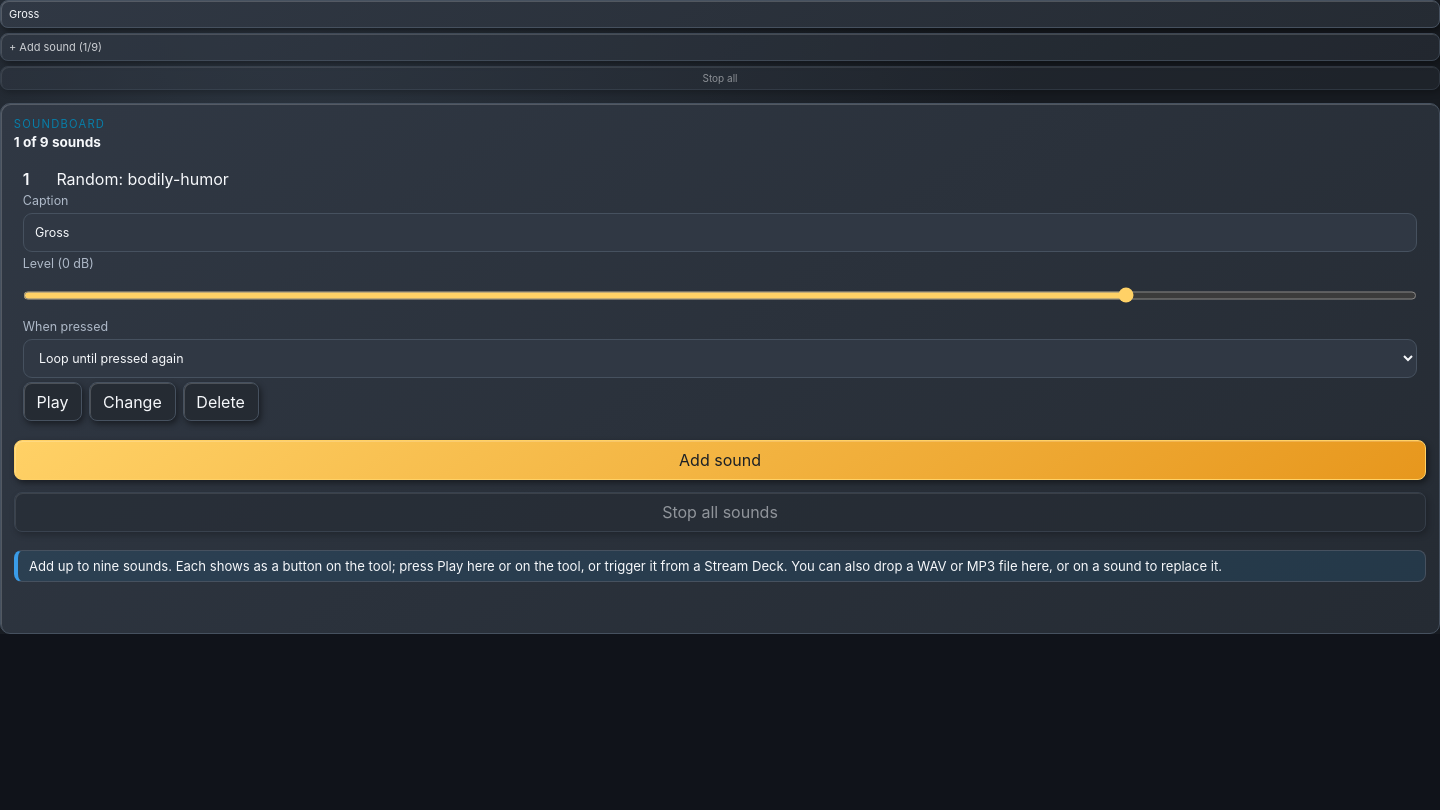
choosing and replacing sounds › Change with a library sound replaces the slot, keeps its caption and clears its random set
Click the button with aria-label "Change sound 1". click: (132, 402)
box: [89,382,176,421]
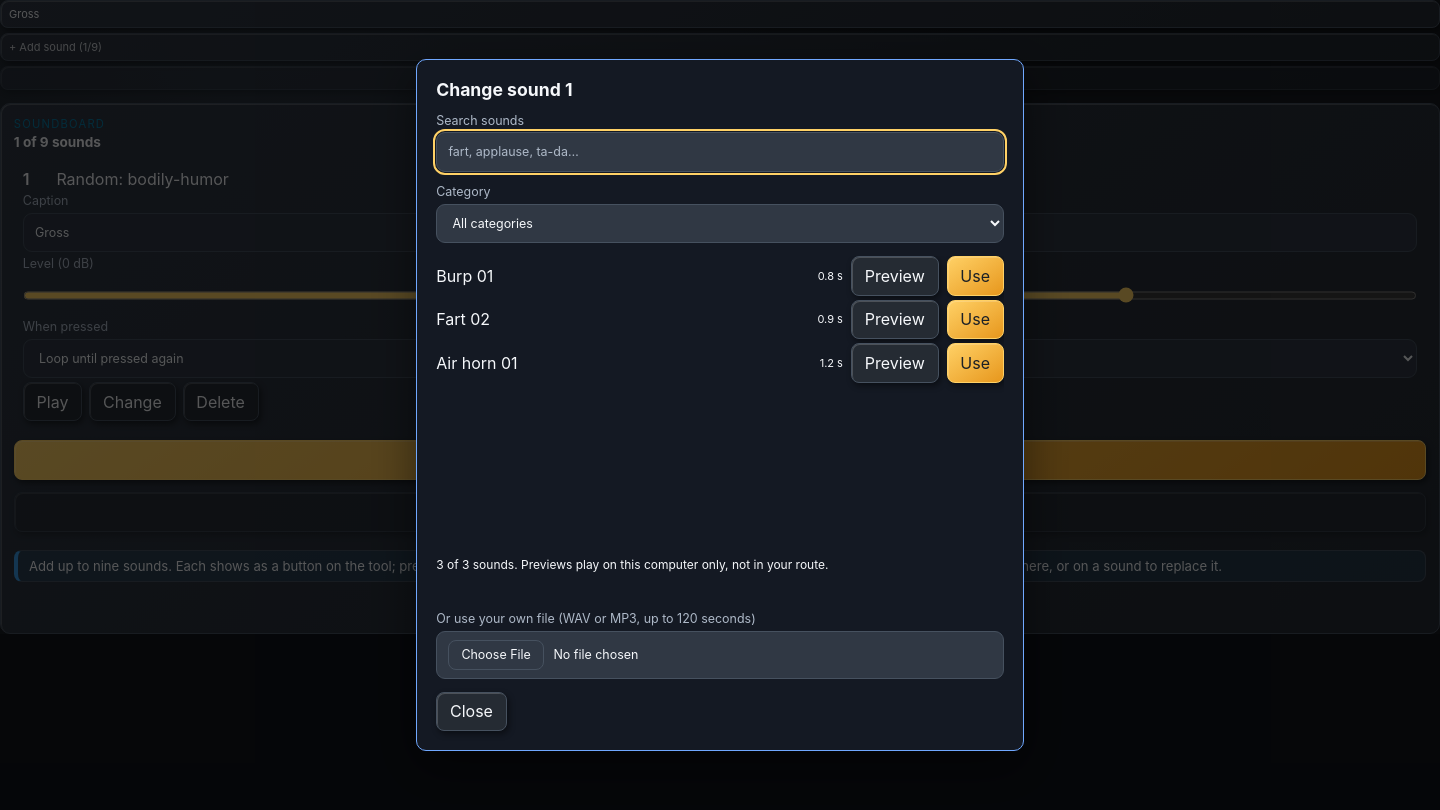
Click the button with aria-label "Use Air horn 01". click: (975, 363)
box: [946,343,1004,383]
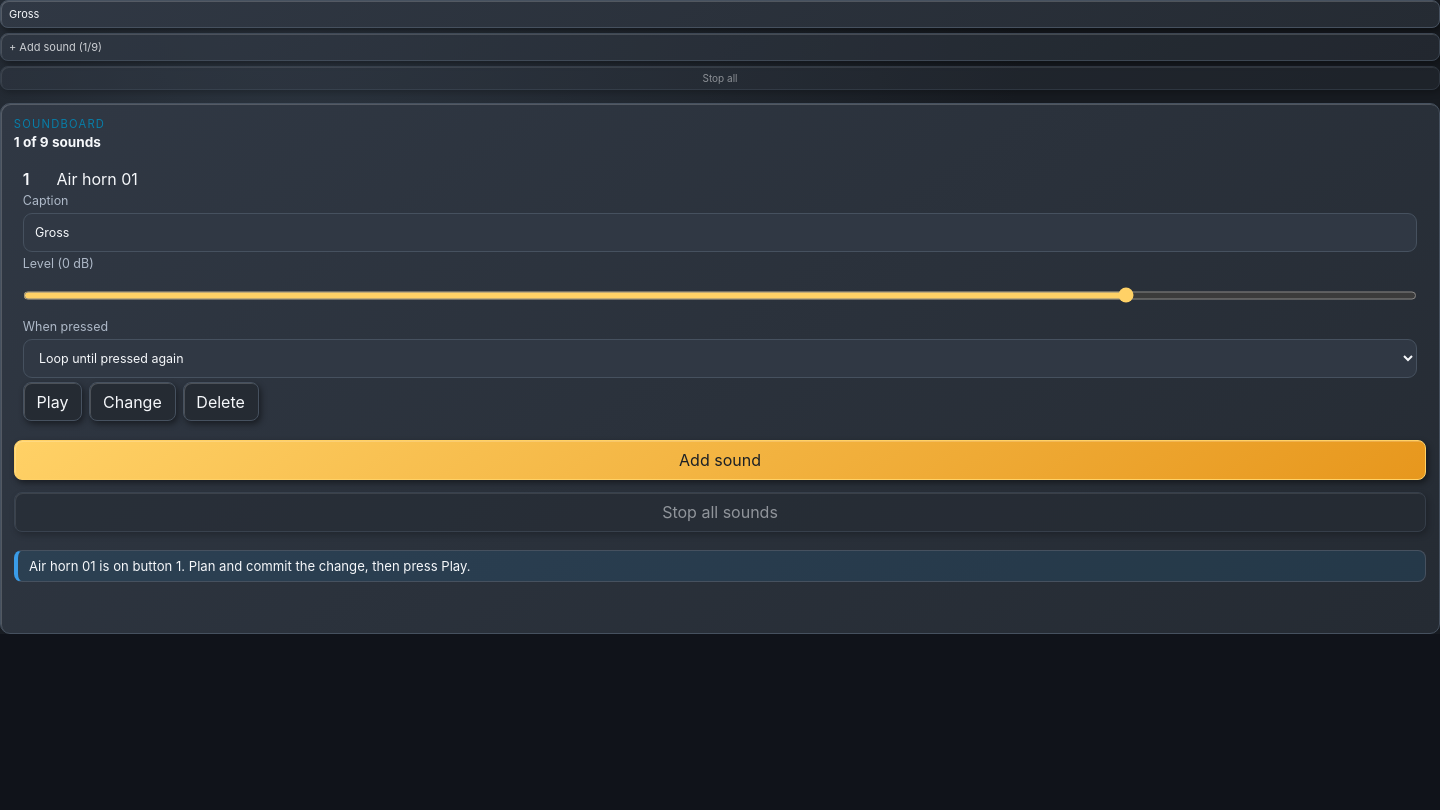
Check: the dialog is gone
